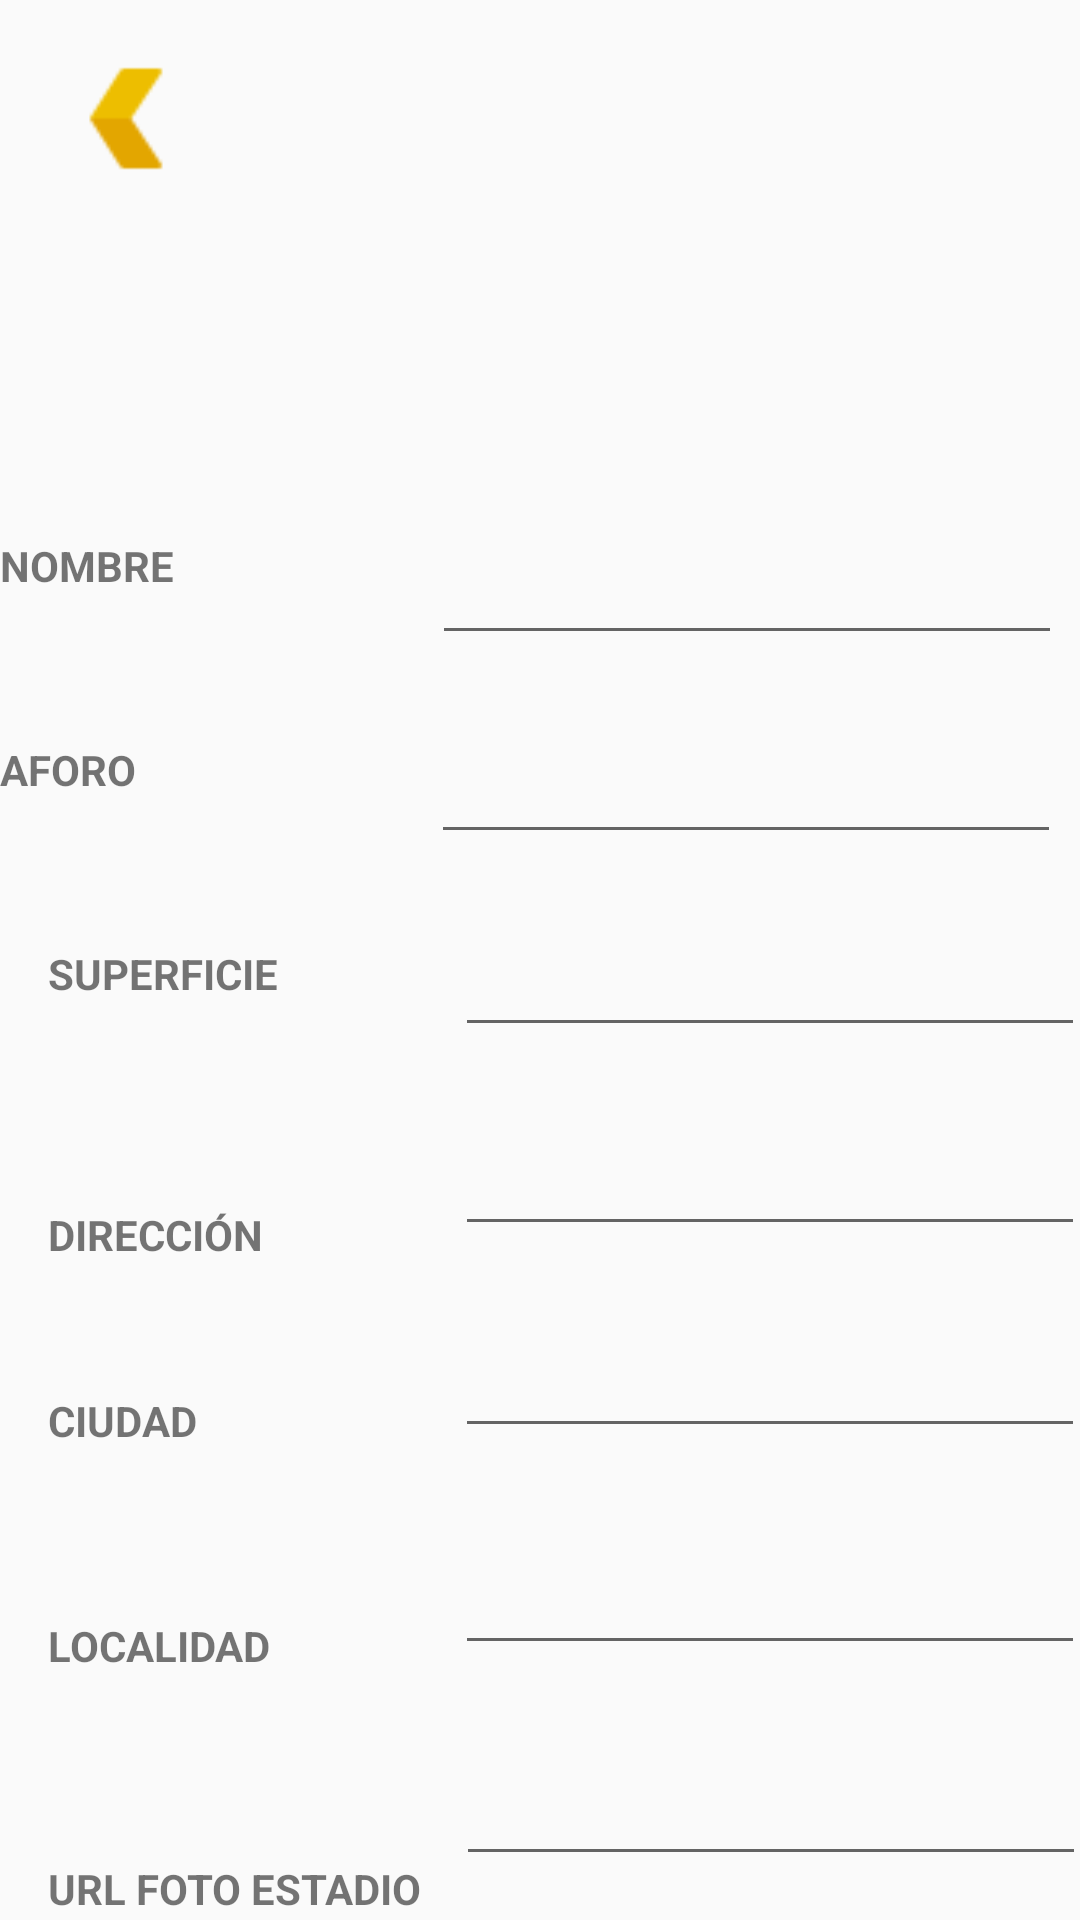

Point at icon controls on the screen. Image size 1080px x 1920px, points as [x,y].
volveroro: [126,118]
